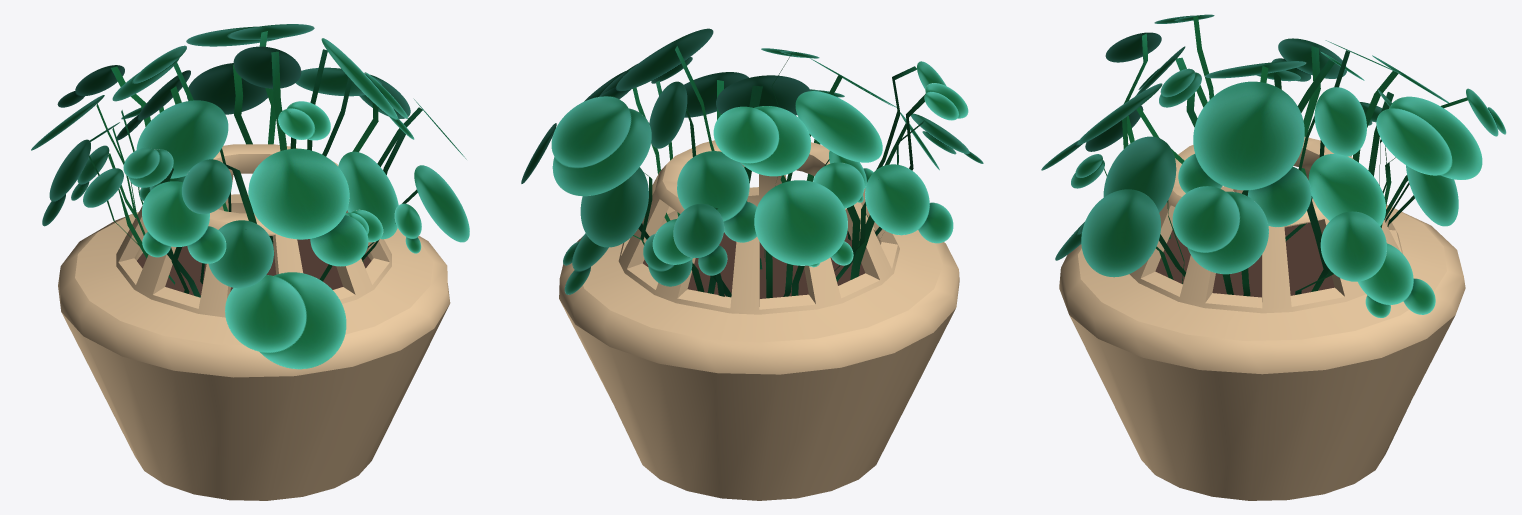
File: Mesh_Shamrock.fbx
The picture shows the model from 3 angles, left to right: view 1: azimuth 30°, elevation 25°; view 2: azimuth 150°, elevation 25°; view 3: azimuth 270°, elevation 25°; orthographic projection. The views are drawn at different scales.
Parts seen in each view (by area): view 1: Shamrock; view 2: Shamrock; view 3: Shamrock.
Boxes of the visible parts, x1,y1,x2,y2 form: Shamrock: (31, 24, 469, 500); Shamrock: (521, 28, 983, 500); Shamrock: (1041, 14, 1506, 500).
Bounding box in the file's own units: 0.3362 × 0.3157 × 0.3402.
